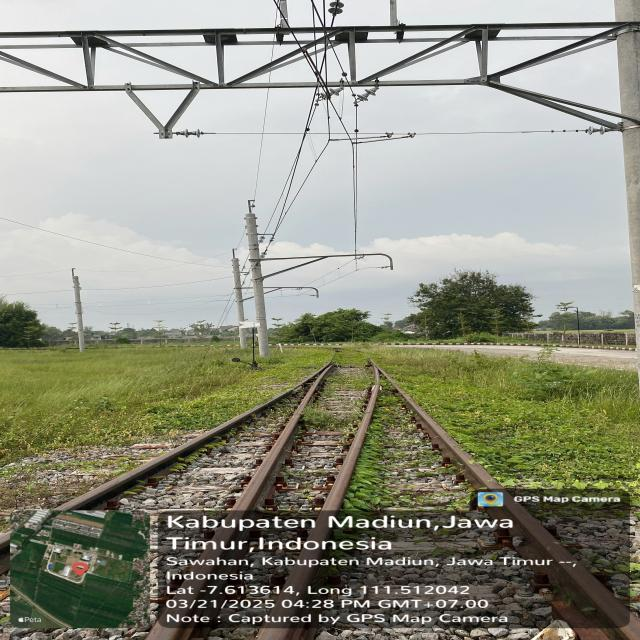rail-detection: (55, 377, 311, 510), (225, 362, 335, 521), (308, 362, 389, 543), (390, 379, 503, 490), (257, 548, 321, 640), (150, 611, 183, 640), (508, 501, 532, 531), (212, 527, 235, 541), (200, 549, 222, 560)
